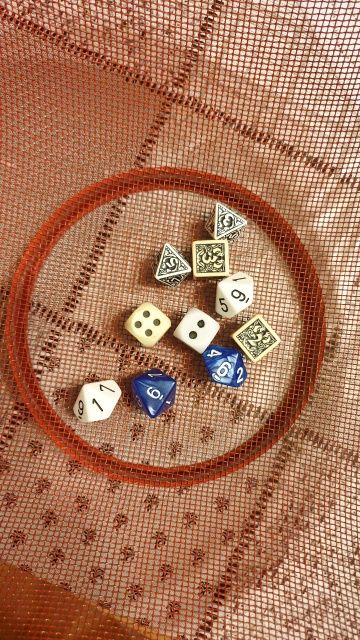d10-1: (65, 375, 120, 425)
d10-6: (131, 367, 180, 424), (202, 342, 250, 395)
d10-9: (211, 268, 258, 322)
d6-2: (172, 306, 219, 356)
d6-4: (121, 299, 170, 348)
d6p-2: (229, 315, 282, 362)
d6p-3: (189, 238, 228, 281)
d8p-3: (201, 199, 248, 243)
d8p-5: (151, 241, 189, 290)
